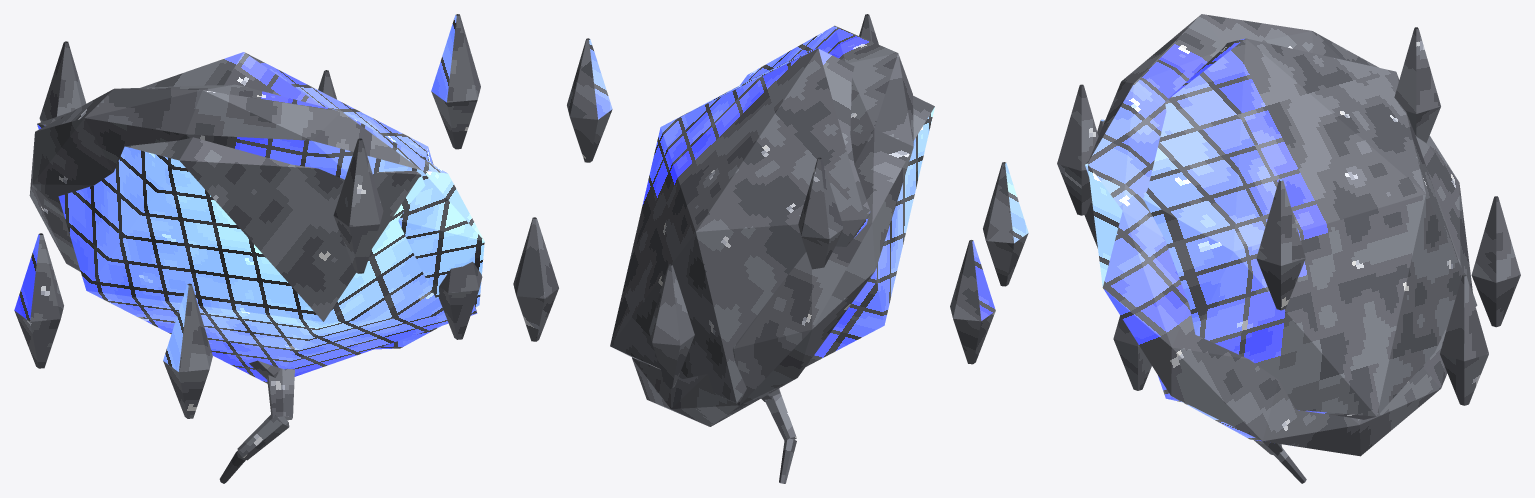
Rendered from cryo_wisp.glb.
3 renders of one model, left to right at view 1: azimuth 30°, elevation 25°; view 2: azimuth 150°, elevation 25°; view 3: azimuth 270°, elevation 25°, orthographic. The views are drawn at different scales.
Parts seen in each view (by area): view 1: CryoWisp; view 2: CryoWisp; view 3: CryoWisp.
Boxes of the visible parts, <box> form: CryoWisp: <box>14,14,484,483</box>; CryoWisp: <box>513,14,1028,483</box>; CryoWisp: <box>1057,14,1520,483</box>.
Size of the model in its own units: 2.17 by 2.06 by 1.97.
Materials: 1 (1 with a texture image).
